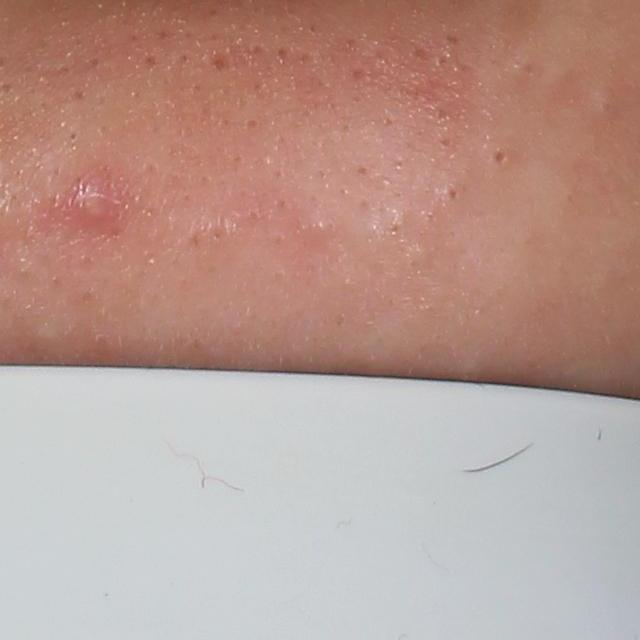comedo: (486, 143, 514, 176), (439, 178, 465, 209), (272, 44, 293, 65), (209, 48, 227, 72)
pustule: (75, 188, 122, 231)
